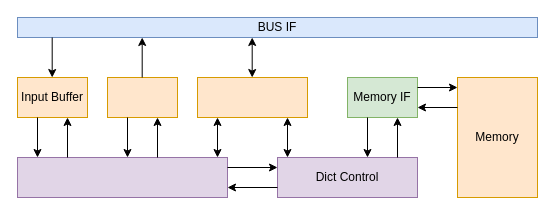
This 555x215 diagram has some shape labels left out. Here are the shapes that lost their labels. From the top down, the centre of each, then its label:
[142,97]: Output Buffer
[252,97]: CSR
[122,177]: LZW Control
